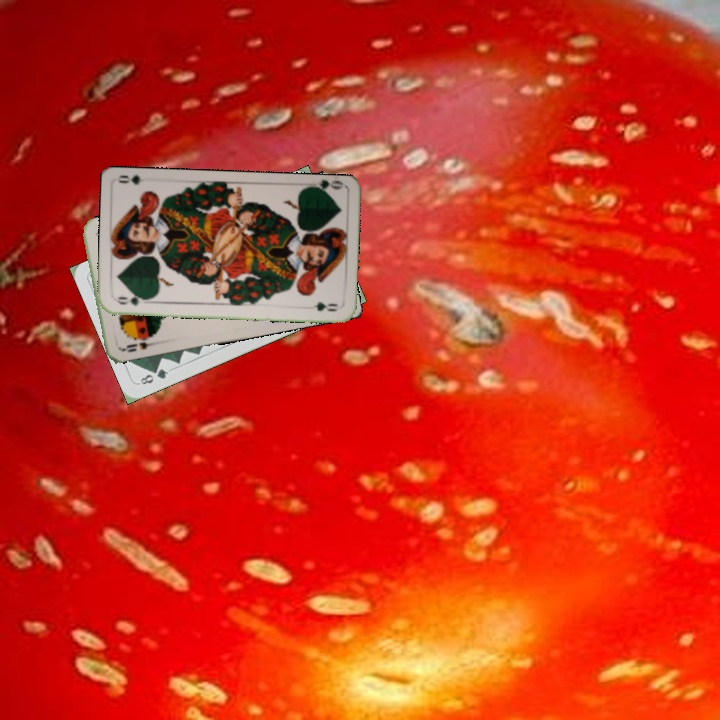G8: (136, 364, 171, 387)
GO: (304, 178, 345, 198), (113, 292, 152, 308)
SO: (119, 338, 160, 355)
